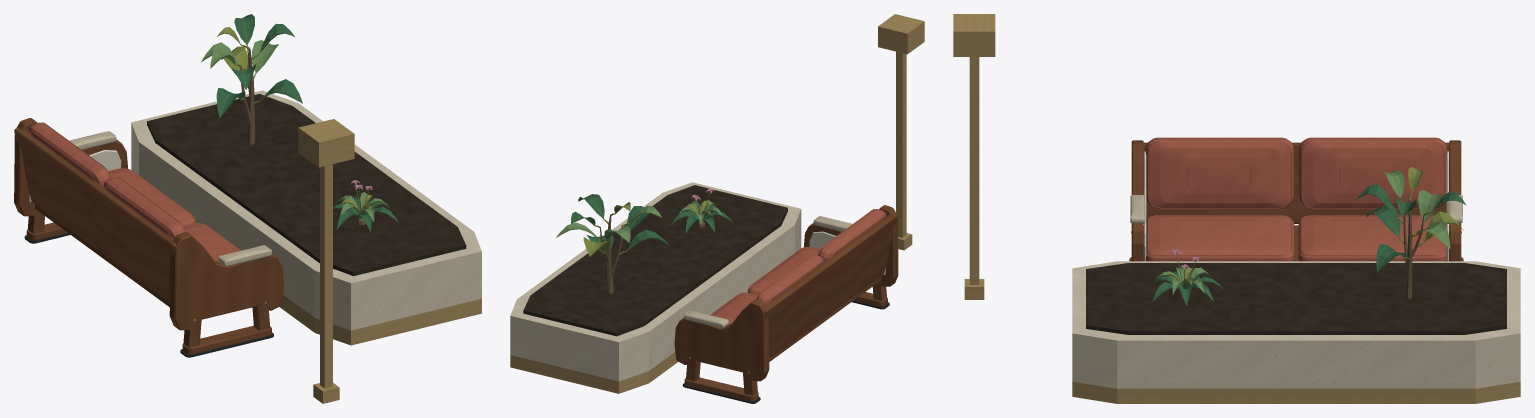
File: G7_Completion_G7C3_D16_Court_2.glb
3 views of the same model, side by side, from view 1: azimuth 30°, elevation 25°; view 2: azimuth 150°, elevation 25°; view 3: azimuth 270°, elevation 25° (orthographic). The views are drawn at different scales.
Visible parts, largest first — view 1: G7C3_D16_Court_2_G7C3_soil_solid_furniture, G7C3_D16_Court_2_ASTRAEA_warm_walnut.010_solid_furniture, G7C3_D16_Court_2_G7C3_stone_solid_furniture, G7C3_D16_Court_2_G7C3_metal_solid_frame, G7C3_D16_Court_2_ASTRAEA_clay_weave.010_solid_furniture, G7C3_D16_Court_2_ASTRAEA_botanical_leaf_jade.020_visual_foli, G7C3_D16_Court_2_ASTRAEA_oatmeal_weave.010_solid_furniture, G7C3_D16_Court_2_ASTRAEA_botanical_leaf_sage.020_visual_foli, G7C3_D16_Court_2_ASTRAEA_botanical_leaf_olive.020_visual_fol, G7C3_D16_Court_2_ASTRAEA_botanical_bark.020_visual_foliage, G7C3_D16_Court_2_ASTRAEA_botanical_leaf_jade.021_visual_foli, G7C3_D16_Court_2_ASTRAEA_dark_rubber.010_solid_furniture (+2 smaller); view 2: G7C3_D16_Court_2_G7C3_soil_solid_furniture, G7C3_D16_Court_2_ASTRAEA_warm_walnut.010_solid_furniture, G7C3_D16_Court_2_G7C3_stone_solid_furniture, G7C3_D16_Court_2_G7C3_metal_solid_frame, G7C3_D16_Court_2_ASTRAEA_clay_weave.010_solid_furniture, G7C3_D16_Court_2_ASTRAEA_botanical_leaf_jade.020_visual_foli, G7C3_D16_Court_2_ASTRAEA_oatmeal_weave.010_solid_furniture, G7C3_D16_Court_2_ASTRAEA_botanical_leaf_olive.020_visual_fol, G7C3_D16_Court_2_ASTRAEA_botanical_leaf_sage.020_visual_foli, G7C3_D16_Court_2_ASTRAEA_botanical_bark.020_visual_foliage, G7C3_D16_Court_2_ASTRAEA_botanical_leaf_jade.021_visual_foli; view 3: G7C3_D16_Court_2_ASTRAEA_clay_weave.010_solid_furniture, G7C3_D16_Court_2_G7C3_soil_solid_furniture, G7C3_D16_Court_2_G7C3_stone_solid_furniture, G7C3_D16_Court_2_G7C3_metal_solid_frame, G7C3_D16_Court_2_ASTRAEA_warm_walnut.010_solid_furniture, G7C3_D16_Court_2_ASTRAEA_botanical_leaf_jade.020_visual_foli, G7C3_D16_Court_2_ASTRAEA_botanical_leaf_sage.020_visual_foli, G7C3_D16_Court_2_ASTRAEA_botanical_leaf_olive.020_visual_fol, G7C3_D16_Court_2_ASTRAEA_oatmeal_weave.010_solid_furniture, G7C3_D16_Court_2_ASTRAEA_botanical_bark.020_visual_foliage, G7C3_D16_Court_2_ASTRAEA_botanical_leaf_jade.021_visual_foli, G7C3_D16_Court_2_ASTRAEA_botanical_leaf_sage.021_visual_foli (+1 smaller).
Boxes of the visible parts, x1,y1,x2,y2 form: G7C3_D16_Court_2_G7C3_soil_solid_furniture: [147, 94, 466, 276]; G7C3_D16_Court_2_ASTRAEA_warm_walnut.010_solid_furniture: [14, 118, 283, 354]; G7C3_D16_Court_2_G7C3_stone_solid_furniture: [131, 90, 481, 330]; G7C3_D16_Court_2_G7C3_metal_solid_frame: [279, 119, 481, 403]; G7C3_D16_Court_2_ASTRAEA_clay_weave.010_solid_furniture: [28, 122, 241, 261]; G7C3_D16_Court_2_ASTRAEA_botanical_leaf_jade.020_visual_foli: [216, 14, 302, 117]; G7C3_D16_Court_2_ASTRAEA_oatmeal_weave.010_solid_furniture: [69, 131, 272, 266]; G7C3_D16_Court_2_ASTRAEA_botanical_leaf_sage.020_visual_foli: [201, 40, 278, 72]; G7C3_D16_Court_2_ASTRAEA_botanical_leaf_olive.020_visual_fol: [203, 18, 300, 109]; G7C3_D16_Court_2_ASTRAEA_botanical_bark.020_visual_foliage: [240, 48, 255, 144]; G7C3_D16_Court_2_ASTRAEA_botanical_leaf_jade.021_visual_foli: [333, 196, 398, 231]; G7C3_D16_Court_2_ASTRAEA_dark_rubber.010_solid_furniture: [24, 233, 273, 357]; G7C3_D16_Court_2_G7C3_soil_solid_furniture: [523, 185, 787, 336]; G7C3_D16_Court_2_ASTRAEA_warm_walnut.010_solid_furniture: [674, 205, 898, 401]; G7C3_D16_Court_2_G7C3_stone_solid_furniture: [510, 182, 801, 381]; G7C3_D16_Court_2_G7C3_metal_solid_frame: [510, 14, 924, 393]; G7C3_D16_Court_2_ASTRAEA_clay_weave.010_solid_furniture: [710, 209, 886, 324]; G7C3_D16_Court_2_ASTRAEA_botanical_leaf_jade.020_visual_foli: [571, 194, 669, 253]; G7C3_D16_Court_2_ASTRAEA_oatmeal_weave.010_solid_furniture: [684, 216, 852, 328]; G7C3_D16_Court_2_ASTRAEA_botanical_leaf_olive.020_visual_fol: [559, 198, 660, 256]; G7C3_D16_Court_2_ASTRAEA_botanical_leaf_sage.020_visual_foli: [556, 205, 661, 242]; G7C3_D16_Court_2_ASTRAEA_botanical_bark.020_visual_foliage: [600, 216, 622, 293]; G7C3_D16_Court_2_ASTRAEA_botanical_leaf_jade.021_visual_foli: [671, 202, 732, 232]; G7C3_D16_Court_2_ASTRAEA_clay_weave.010_solid_furniture: [1145, 137, 1447, 261]; G7C3_D16_Court_2_G7C3_soil_solid_furniture: [1086, 263, 1506, 334]; G7C3_D16_Court_2_G7C3_stone_solid_furniture: [1072, 261, 1520, 388]; G7C3_D16_Court_2_G7C3_metal_solid_frame: [953, 14, 1520, 403]; G7C3_D16_Court_2_ASTRAEA_warm_walnut.010_solid_furniture: [1129, 140, 1463, 261]; G7C3_D16_Court_2_ASTRAEA_botanical_leaf_jade.020_visual_foli: [1356, 184, 1466, 272]; G7C3_D16_Court_2_ASTRAEA_botanical_leaf_sage.020_visual_foli: [1384, 170, 1450, 248]; G7C3_D16_Court_2_ASTRAEA_botanical_leaf_olive.020_visual_fol: [1369, 166, 1463, 268]; G7C3_D16_Court_2_ASTRAEA_oatmeal_weave.010_solid_furniture: [1130, 195, 1462, 223]; G7C3_D16_Court_2_ASTRAEA_botanical_bark.020_visual_foliage: [1403, 200, 1423, 298]; G7C3_D16_Court_2_ASTRAEA_botanical_leaf_jade.021_visual_foli: [1149, 270, 1223, 306]; G7C3_D16_Court_2_ASTRAEA_botanical_leaf_sage.021_visual_foli: [1153, 266, 1210, 294].
Bounding box in the file's own units: 2.46 × 2.15 × 4.05.
Materials: 19 (18 with a texture image).
